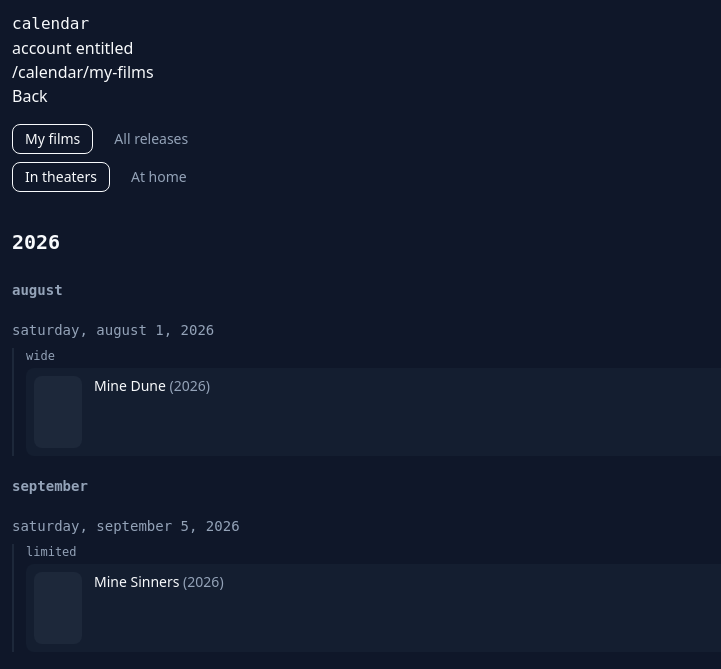
Scenario: calendar view — entitled › keeps all-releases paging across a tab switch, and pays for that page once
Expected: the text "Mine Dune" is shown, [94,376,166,395]
Click the tab "All releases": x=151, y=138 [114,129,188,148]
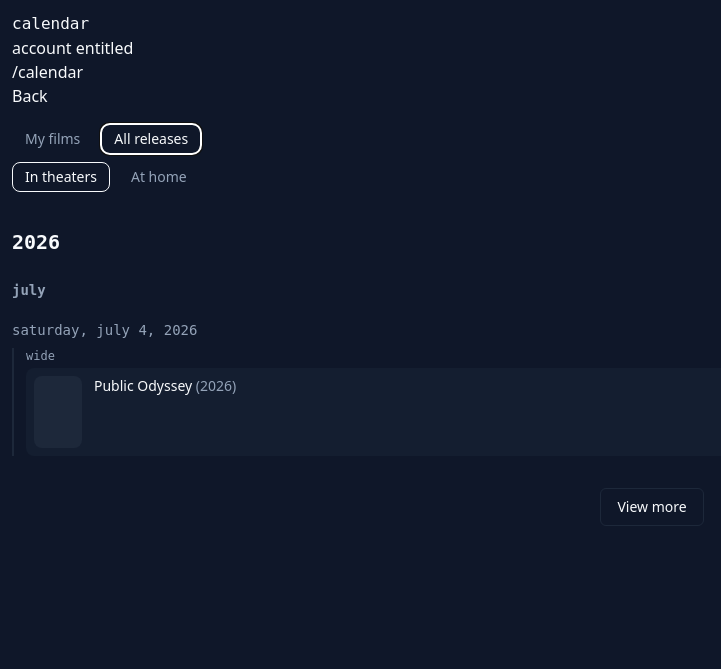
Click the button "View more": x=652, y=507 [600,488,704,526]
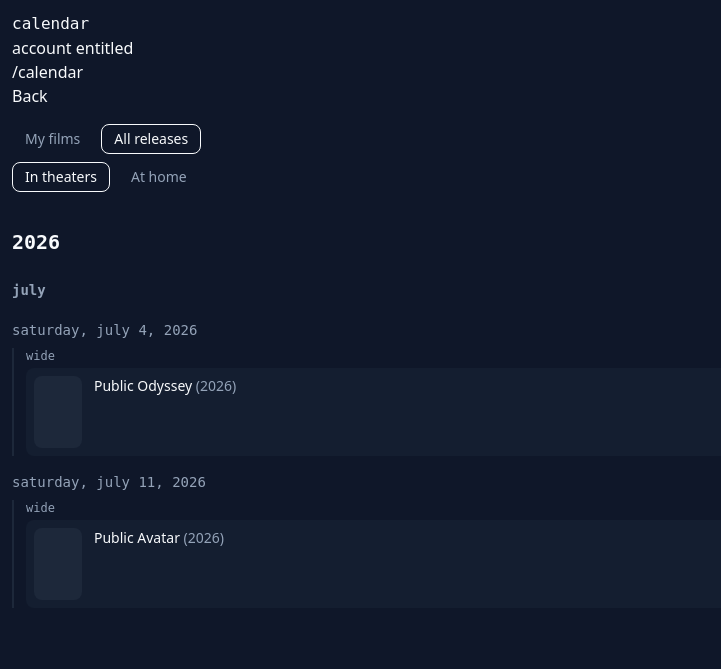
Expected: the text "Public Avatar" is shown, [94,528,180,547]
Click the tab "My films": x=53, y=138 [25,129,80,148]
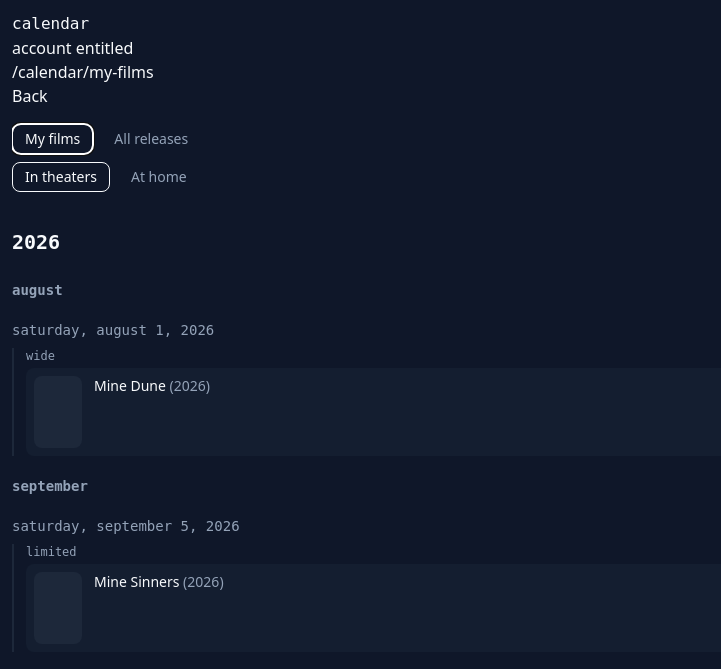
Click the tab "All releases": x=151, y=138 [114,129,188,148]
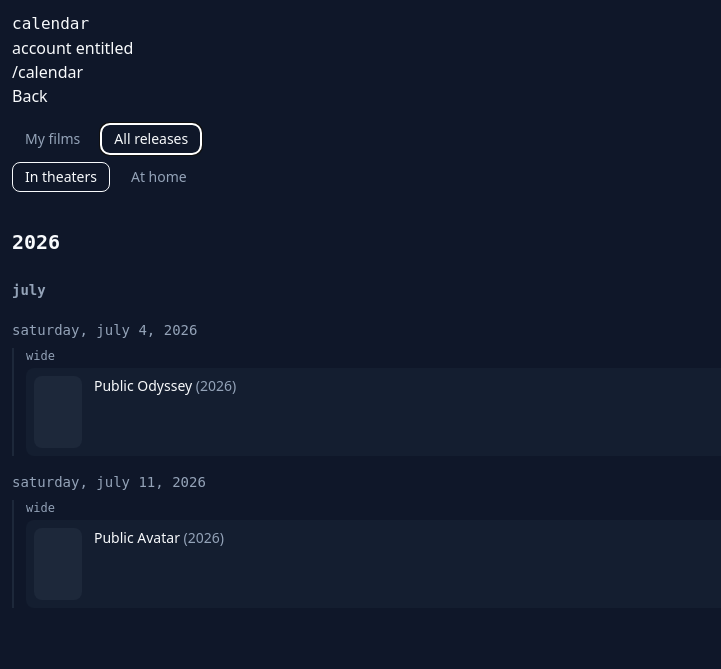
Expected: the text "Public Avatar" is shown, [94,528,180,547]
